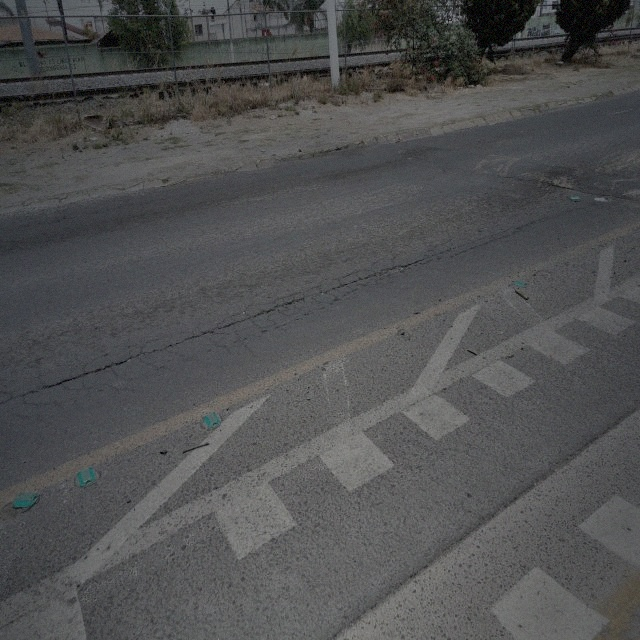pothole: (386, 260, 408, 277)
